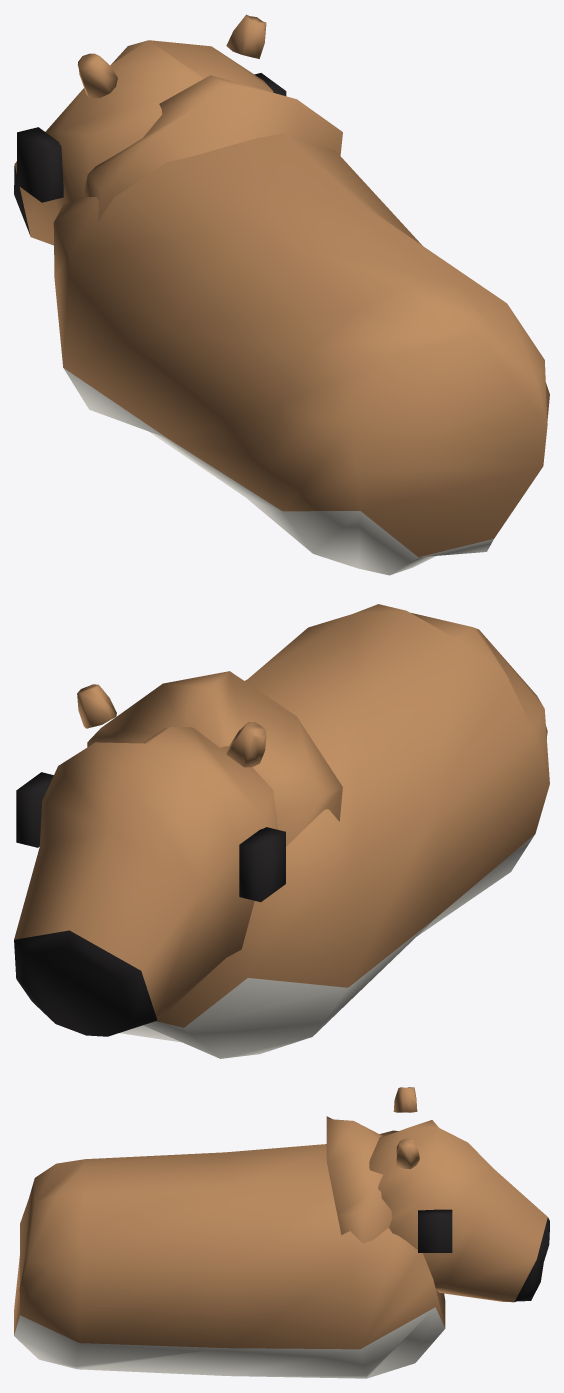
File: animal_guineapig.obj
3 renders of one model, top to bottom at view 1: azimuth 30°, elevation 25°; view 2: azimuth 150°, elevation 25°; view 3: azimuth 270°, elevation 25°, orthographic. The views are drawn at different scales.
Visible parts, largest first — view 1: animal_guineapig_component_01_stage_1, animal_guineapig_component_03_stage_1, animal_guineapig_component_02_stage_1, animal_guineapig_component_04_stage_1, animal_guineapig_component_06_stage_1, animal_guineapig_component_07_stage_1; view 2: animal_guineapig_component_01_stage_1, animal_guineapig_component_03_stage_1, animal_guineapig_component_02_stage_1, animal_guineapig_component_04_stage_1, animal_guineapig_component_05_stage_1, animal_guineapig_component_06_stage_1, animal_guineapig_component_07_stage_1; view 3: animal_guineapig_component_01_stage_1, animal_guineapig_component_03_stage_1, animal_guineapig_component_02_stage_1, animal_guineapig_component_05_stage_1, animal_guineapig_component_07_stage_1, animal_guineapig_component_06_stage_1.
Part boxes in pixels (bbox=[...]): animal_guineapig_component_01_stage_1: bbox=[53, 133, 549, 575]; animal_guineapig_component_03_stage_1: bbox=[14, 40, 273, 245]; animal_guineapig_component_02_stage_1: bbox=[83, 75, 342, 220]; animal_guineapig_component_04_stage_1: bbox=[17, 127, 63, 202]; animal_guineapig_component_06_stage_1: bbox=[78, 53, 117, 98]; animal_guineapig_component_07_stage_1: bbox=[226, 14, 266, 58]; animal_guineapig_component_01_stage_1: bbox=[119, 604, 549, 1058]; animal_guineapig_component_03_stage_1: bbox=[14, 727, 278, 1036]; animal_guineapig_component_02_stage_1: bbox=[87, 671, 342, 846]; animal_guineapig_component_04_stage_1: bbox=[239, 827, 285, 902]; animal_guineapig_component_05_stage_1: bbox=[16, 772, 53, 847]; animal_guineapig_component_06_stage_1: bbox=[226, 722, 266, 767]; animal_guineapig_component_07_stage_1: bbox=[77, 684, 116, 728]; animal_guineapig_component_01_stage_1: bbox=[14, 1144, 445, 1378]; animal_guineapig_component_03_stage_1: bbox=[369, 1120, 549, 1302]; animal_guineapig_component_02_stage_1: bbox=[326, 1116, 392, 1243]; animal_guineapig_component_05_stage_1: bbox=[418, 1209, 452, 1252]; animal_guineapig_component_07_stage_1: bbox=[396, 1138, 419, 1169]; animal_guineapig_component_06_stage_1: bbox=[393, 1087, 417, 1112].
Size of the model in its own units: 0.2108 by 0.2507 by 0.4964.
